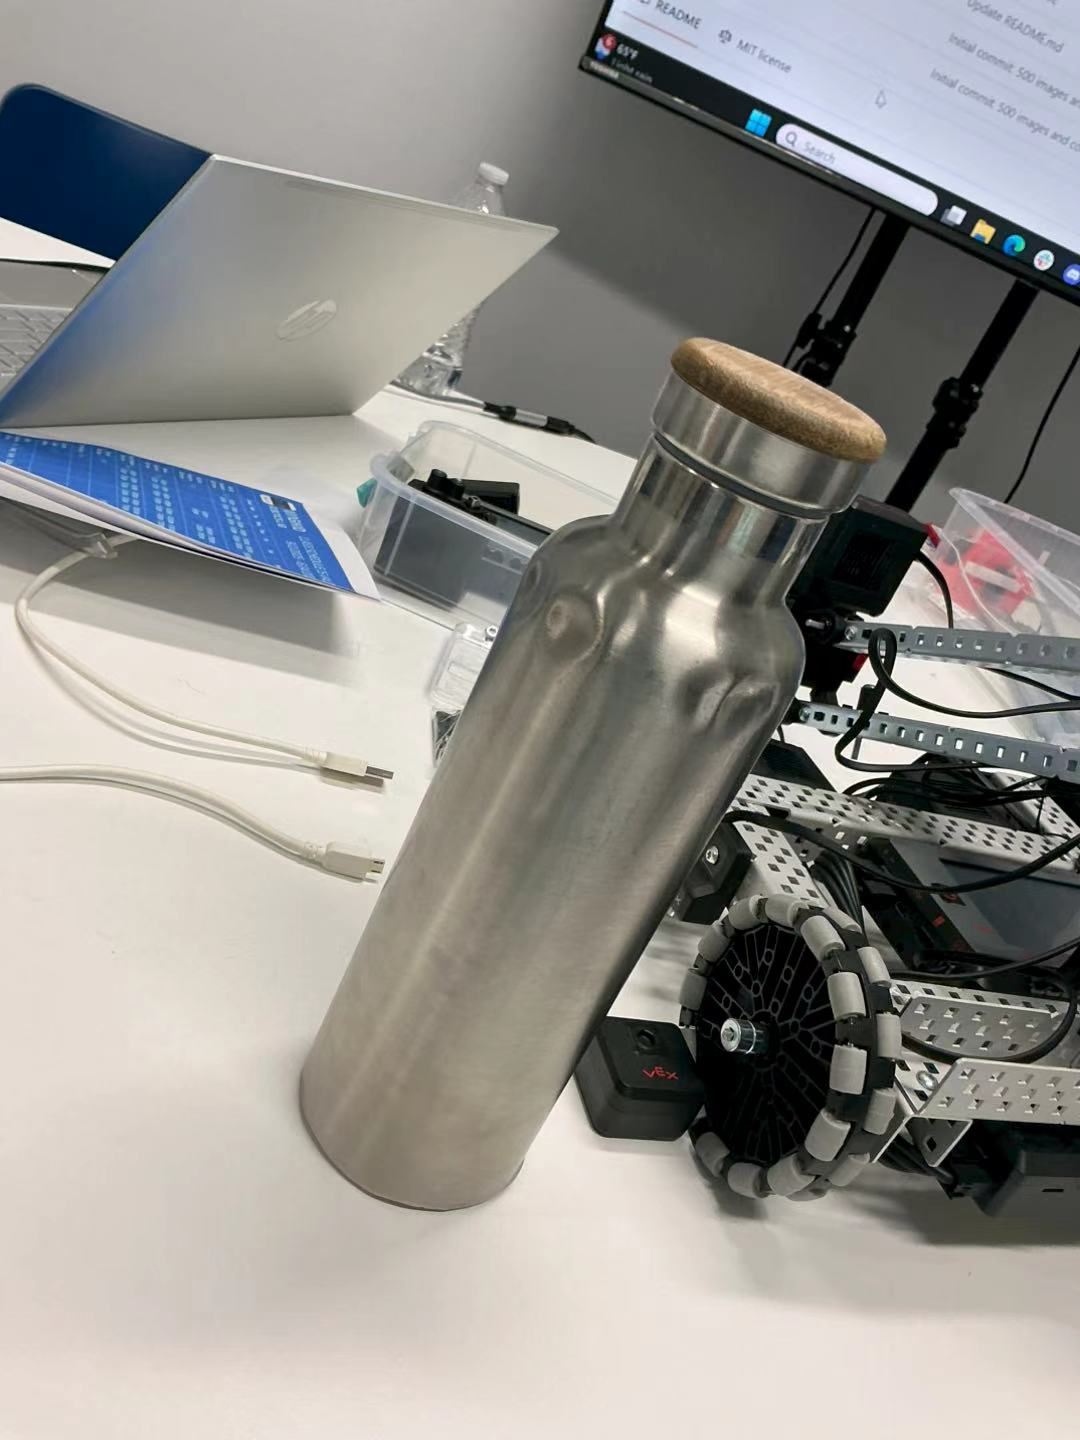Water_Bottle: (275, 318, 887, 1202)
